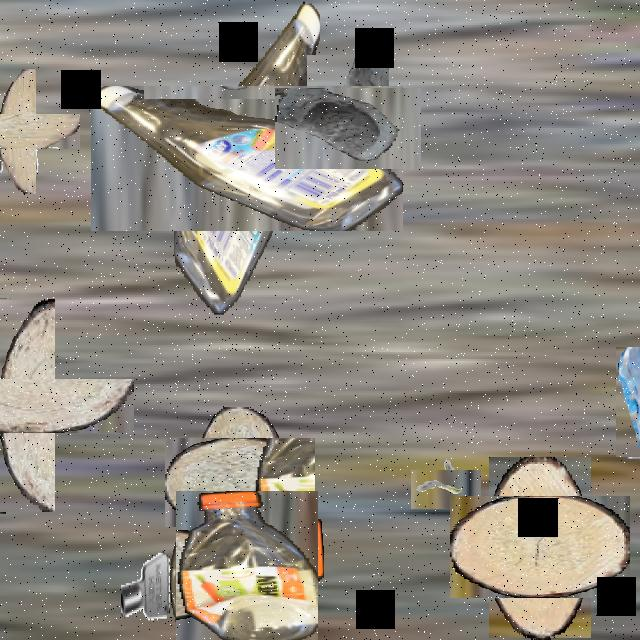glass: (291, 71, 405, 185), (616, 347, 640, 457)
metal: (121, 544, 171, 633), (418, 461, 474, 517), (22, 108, 60, 176)
plastic: (132, 43, 362, 273), (173, 493, 321, 640)
wood: (469, 477, 611, 618), (180, 422, 300, 542), (0, 338, 94, 472), (0, 91, 58, 171)
